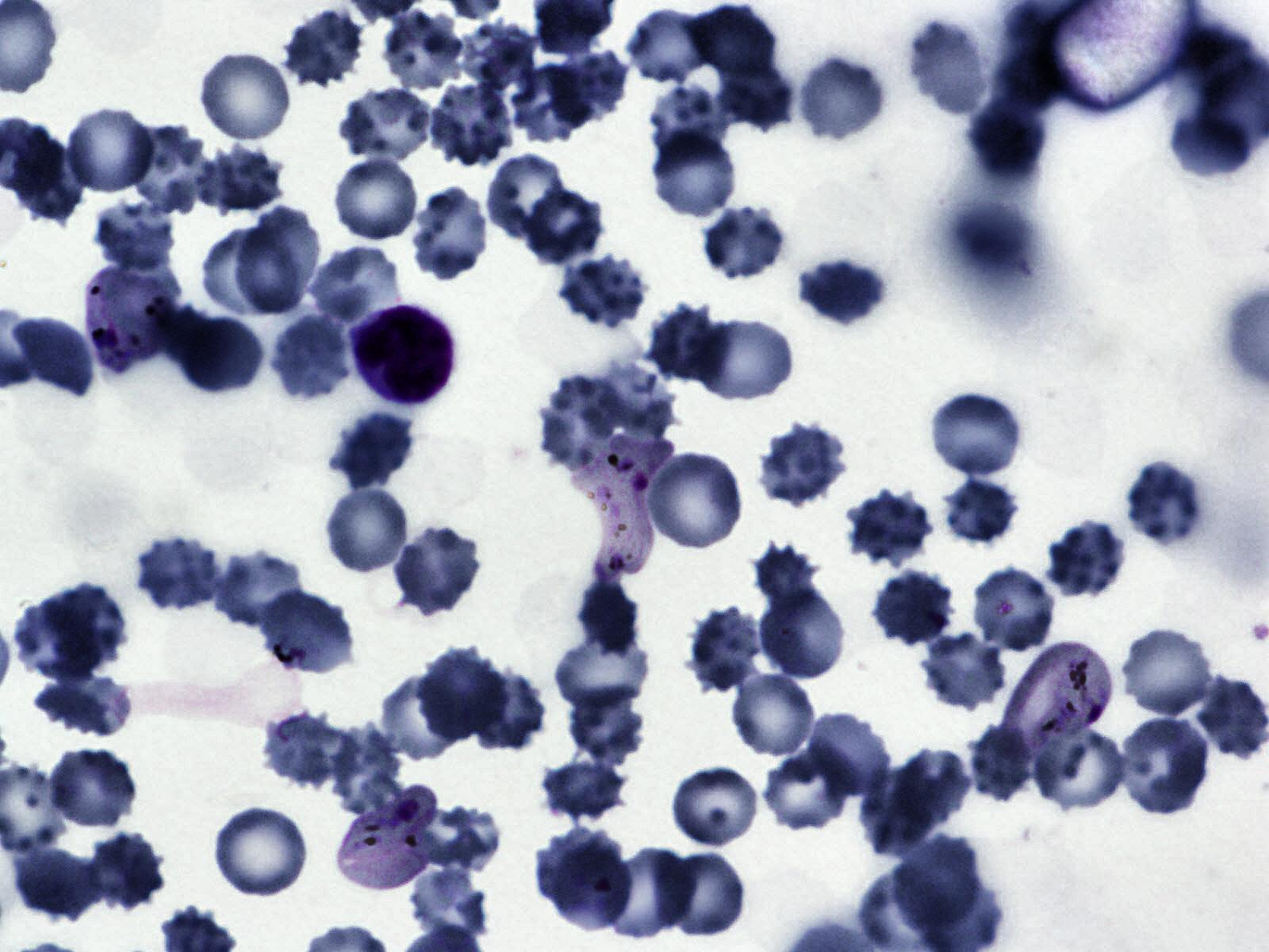Infected: (573, 435, 675, 581), (1003, 641, 1118, 747), (349, 304, 459, 409), (337, 785, 439, 896), (86, 268, 178, 371)
Uninfected: (641, 451, 746, 553), (208, 803, 313, 900), (194, 49, 297, 145), (1115, 716, 1213, 816), (236, 208, 325, 317), (691, 315, 796, 405), (906, 19, 996, 124), (201, 228, 298, 324), (1118, 627, 1217, 720), (924, 390, 1026, 480), (1030, 720, 1128, 813), (757, 585, 849, 684), (793, 52, 889, 145), (648, 129, 742, 223), (602, 848, 696, 940), (656, 850, 751, 941), (891, 836, 979, 934), (389, 525, 484, 615), (727, 669, 819, 761), (322, 484, 412, 578), (329, 155, 424, 244), (62, 106, 158, 194), (554, 632, 652, 718), (665, 765, 765, 849), (257, 589, 353, 676), (539, 375, 622, 474), (301, 243, 405, 322), (338, 85, 436, 167), (377, 673, 466, 763), (408, 189, 493, 283), (174, 311, 266, 397), (124, 124, 210, 216), (484, 154, 572, 243), (805, 709, 894, 797), (965, 570, 1051, 660), (419, 648, 504, 739), (47, 747, 139, 831), (755, 424, 849, 505), (679, 6, 779, 82), (596, 359, 682, 447), (380, 10, 469, 95), (765, 750, 854, 835), (15, 597, 103, 682), (212, 550, 305, 630), (857, 764, 937, 857), (1123, 462, 1207, 550), (42, 585, 130, 669), (428, 84, 515, 167), (270, 317, 352, 405), (551, 842, 633, 930), (327, 724, 404, 816), (261, 709, 349, 789), (700, 204, 789, 283), (795, 255, 888, 330), (509, 65, 595, 146), (535, 823, 621, 904), (626, 10, 717, 86), (14, 313, 95, 397), (10, 850, 104, 922), (557, 255, 648, 329), (408, 866, 489, 949), (1045, 521, 1129, 601), (521, 187, 606, 266), (894, 743, 972, 829), (33, 670, 134, 736), (332, 411, 417, 489), (469, 670, 550, 751), (870, 570, 953, 649), (87, 831, 166, 913), (282, 10, 366, 87), (565, 689, 649, 766), (132, 536, 217, 612), (94, 200, 181, 274), (688, 609, 763, 694), (414, 803, 506, 872), (646, 84, 730, 159), (12, 141, 82, 231), (924, 635, 1010, 708), (199, 143, 285, 216), (548, 51, 628, 129), (962, 723, 1037, 806), (647, 305, 726, 382), (938, 476, 1022, 548), (539, 757, 630, 823), (1168, 109, 1253, 179), (461, 18, 539, 94), (849, 486, 933, 556), (715, 58, 794, 132), (1201, 672, 1267, 758), (573, 577, 645, 650), (750, 547, 820, 612)
